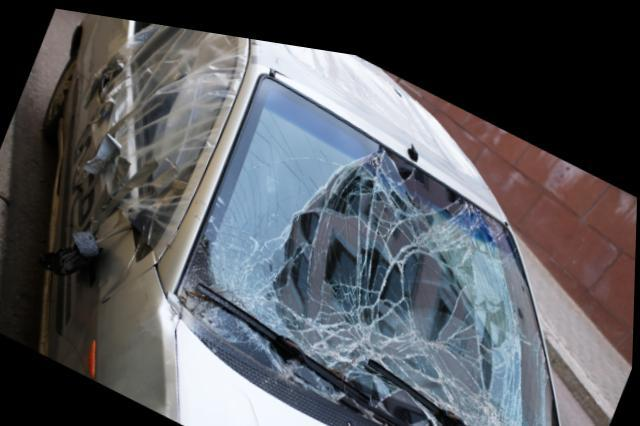glass shatter: (180, 68, 562, 426)
